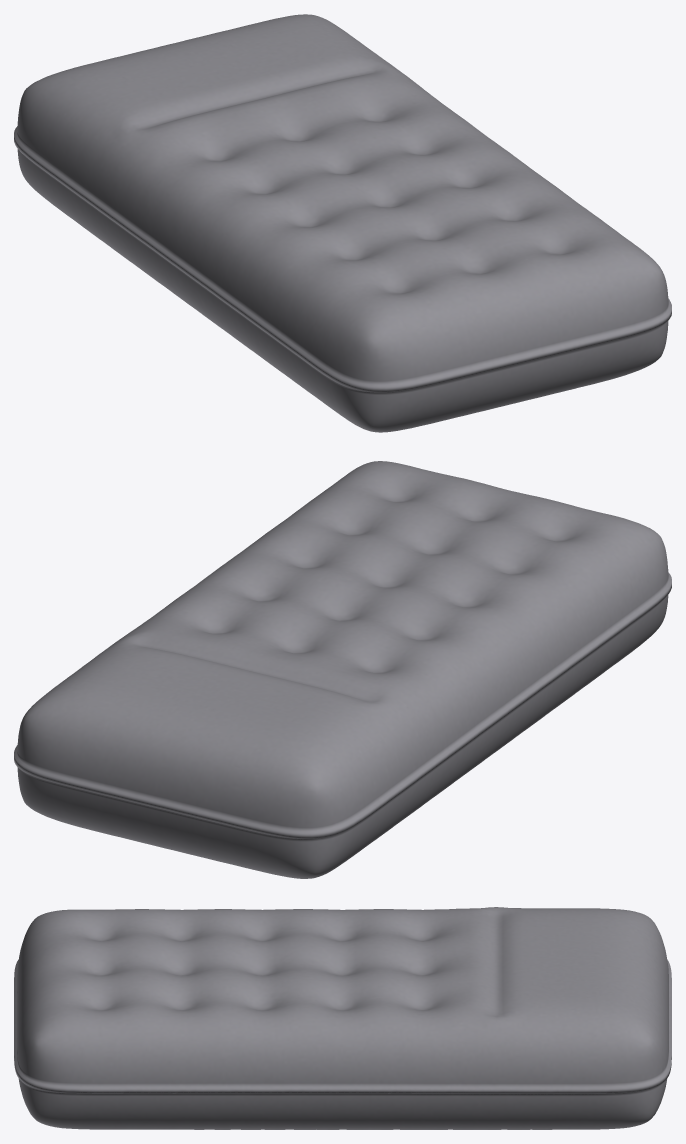
File: Bed47.fbx
3 renders of one model, top to bottom at view 1: azimuth 30°, elevation 25°; view 2: azimuth 150°, elevation 25°; view 3: azimuth 270°, elevation 25°, orthographic. The views are drawn at different scales.
Visible parts, largest first — view 1: Mattress47; view 2: Mattress47; view 3: Mattress47.
Boxes of the visible parts, <box> form: Mattress47: <box>14,14,671,432</box>; Mattress47: <box>14,461,671,878</box>; Mattress47: <box>14,907,671,1129</box>.
Bounding box in the file's own units: 118 × 45.92 × 226.
